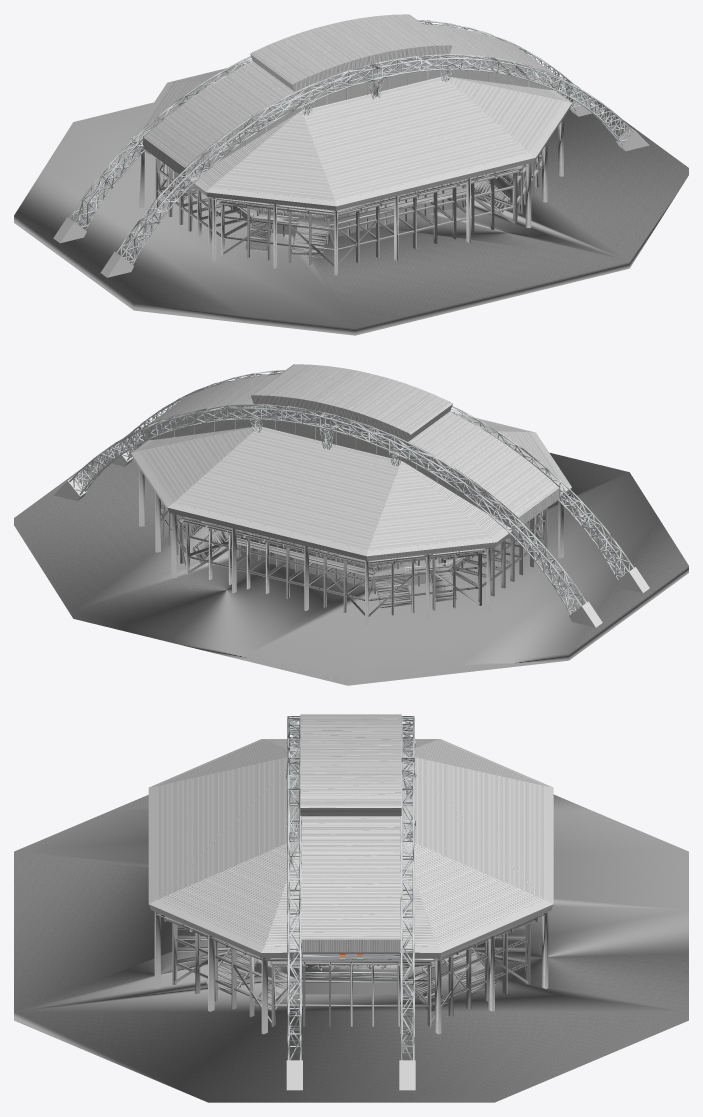
Rendered from parque-roca.glb.
The picture shows the model from 3 angles, top to bottom: view 1: azimuth 30°, elevation 25°; view 2: azimuth 150°, elevation 25°; view 3: azimuth 270°, elevation 25°; orthographic projection. The views are drawn at different scales.
Parts seen in each view (by area): view 1: Object_2430, Object_1446, Object_14, Object_1885, Object_1535, Object_1424, Object_1445; view 2: Object_2430, Object_1446, Object_14, Object_1885, Object_1535, Object_1424; view 3: Object_2430, Object_1446, Object_14, Object_1885, Object_1424.
Boxes of the visible parts, left/top/right/bottom form: Object_2430: left=14, top=79, right=688, bottom=335; Object_1446: left=139, top=14, right=564, bottom=200; Object_14: left=69, top=20, right=634, bottom=264; Object_1885: left=131, top=62, right=571, bottom=210; Object_1535: left=143, top=33, right=558, bottom=177; Object_1424: left=53, top=93, right=649, bottom=277; Object_1445: left=151, top=154, right=532, bottom=212; Object_2430: left=14, top=429, right=688, bottom=685; Object_1446: left=139, top=364, right=563, bottom=550; Object_14: left=69, top=370, right=634, bottom=614; Object_1885: left=131, top=412, right=571, bottom=560; Object_1535: left=144, top=374, right=559, bottom=527; Object_1424: left=53, top=443, right=649, bottom=627; Object_2430: left=14, top=794, right=688, bottom=1102; Object_1446: left=157, top=714, right=545, bottom=952; Object_14: left=258, top=716, right=444, bottom=1060; Object_1885: left=148, top=739, right=553, bottom=958; Object_1424: left=286, top=1060, right=415, bottom=1090.
Bounding box in the file's own units: 247 × 67.8 × 218.
Materials: 26 (14 with a texture image).
